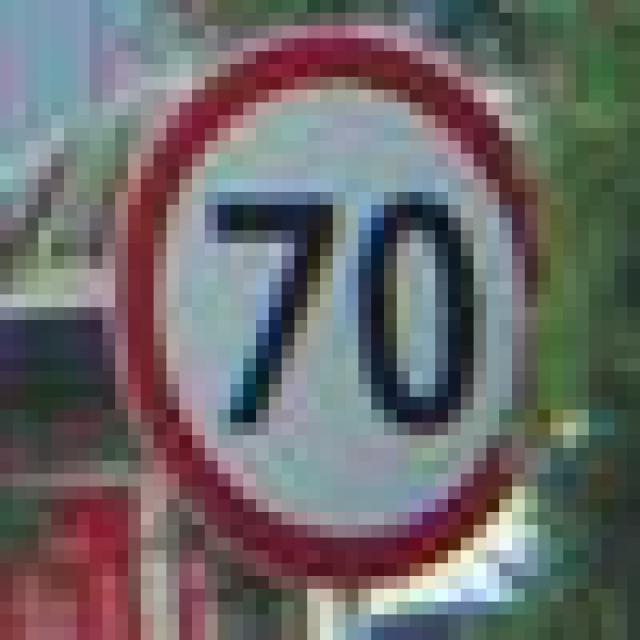SPEED_LIMIT_70: (115, 26, 538, 563)
